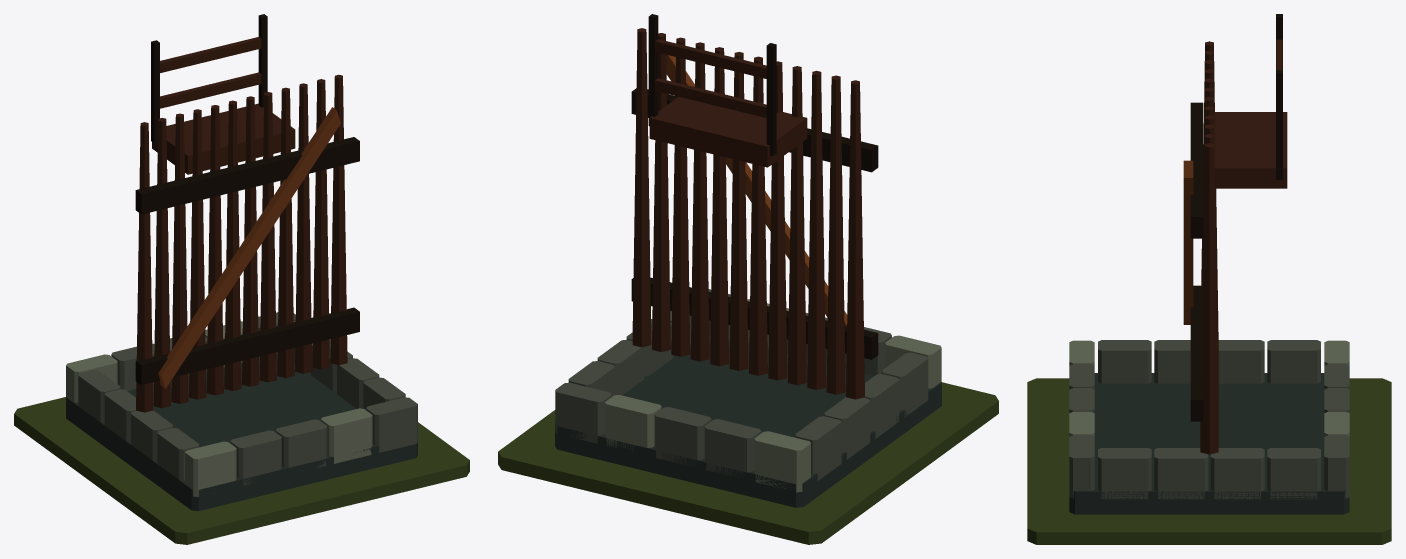
File: wall_t5.glb
The picture shows the model from 3 angles, left to right: view 1: azimuth 30°, elevation 25°; view 2: azimuth 150°, elevation 25°; view 3: azimuth 270°, elevation 25°; orthographic projection. The views are drawn at different scales.
Parts seen in each view (by area): view 1: MMR | wall | T05 Architecture.001, MMR | wall | Tier 05 Ground.001; view 2: MMR | wall | T05 Architecture.001, MMR | wall | Tier 05 Ground.001; view 3: MMR | wall | T05 Architecture.001, MMR | wall | Tier 05 Ground.001.
Part boxes in pixels (x1=…): MMR | wall | T05 Architecture.001: x1=66, y1=14, x2=417, y2=511; MMR | wall | Tier 05 Ground.001: x1=14, y1=397, x2=469, y2=544; MMR | wall | T05 Architecture.001: x1=555, y1=14, x2=941, y2=507; MMR | wall | Tier 05 Ground.001: x1=498, y1=382, x2=998, y2=544; MMR | wall | T05 Architecture.001: x1=1069, y1=14, x2=1349, y2=514; MMR | wall | Tier 05 Ground.001: x1=1027, y1=378, x2=1391, y2=544.
Size of the model in its own units: 1.3 by 1.67 by 1.3.
Materials: 1 (1 with a texture image).
